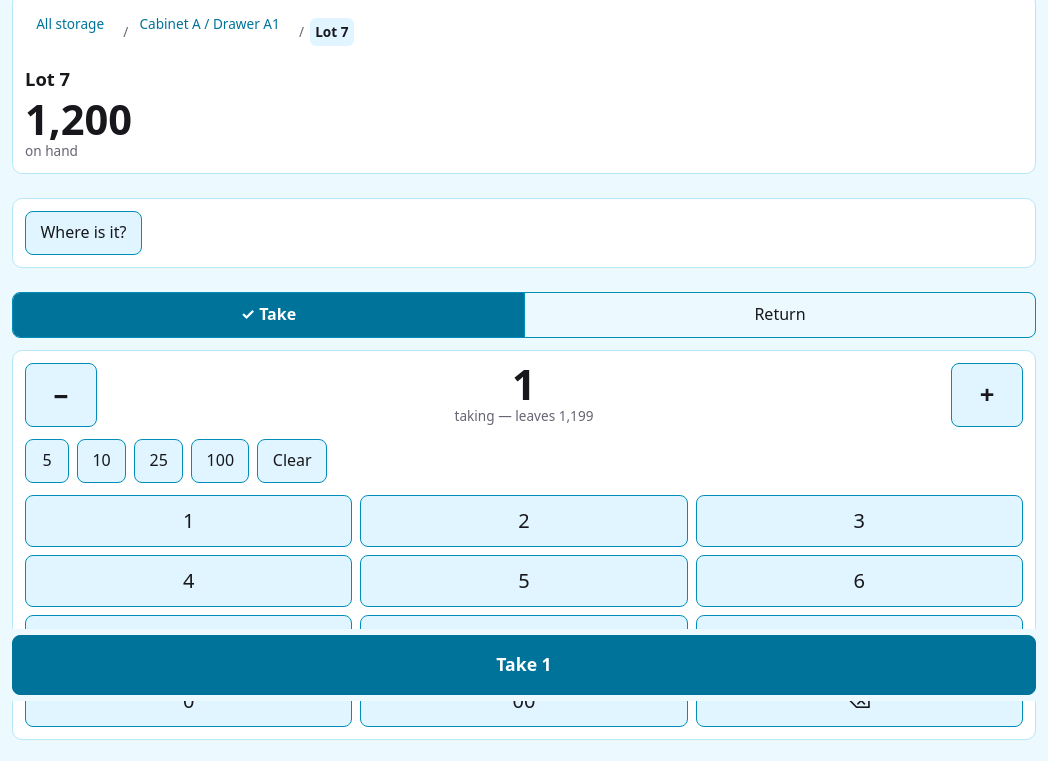
Test: take / return › undoes by naming the committed key, and carries its own key for the undo
Step 1. Click the button "Take 1" → (524, 665), box top-left (12, 635), bottom-right (1036, 695)
(page scrolled)
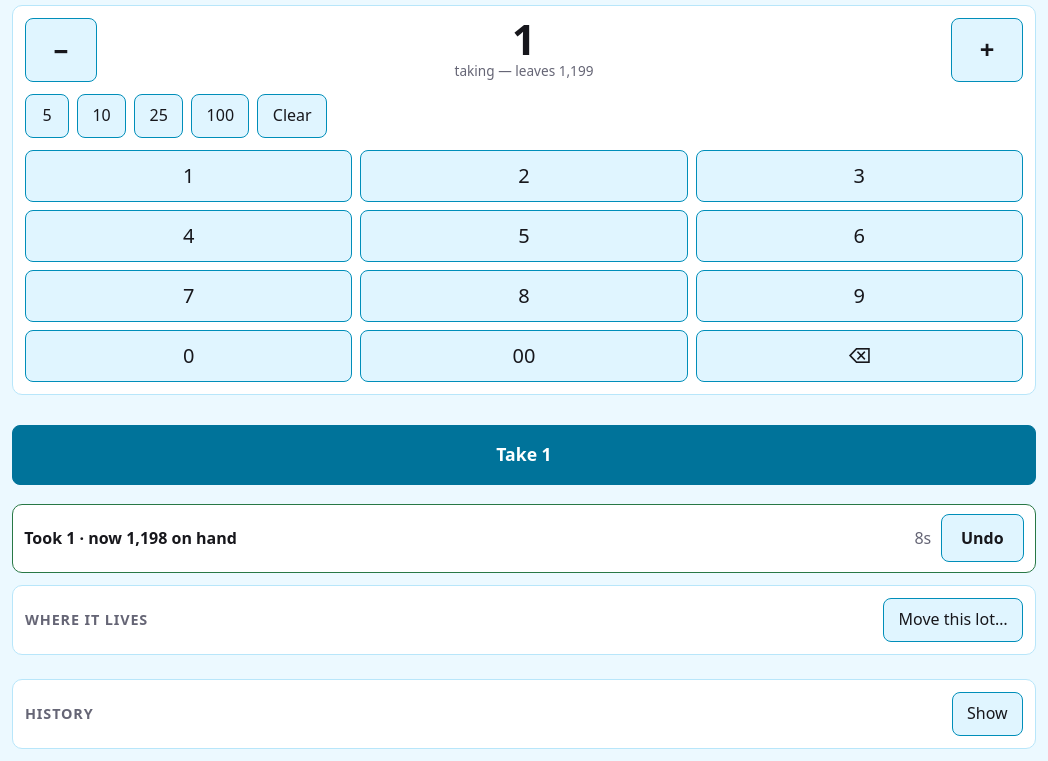
Step 2. Click the button "Undo" → (982, 538), box top-left (941, 514), bottom-right (1024, 562)
(page scrolled)
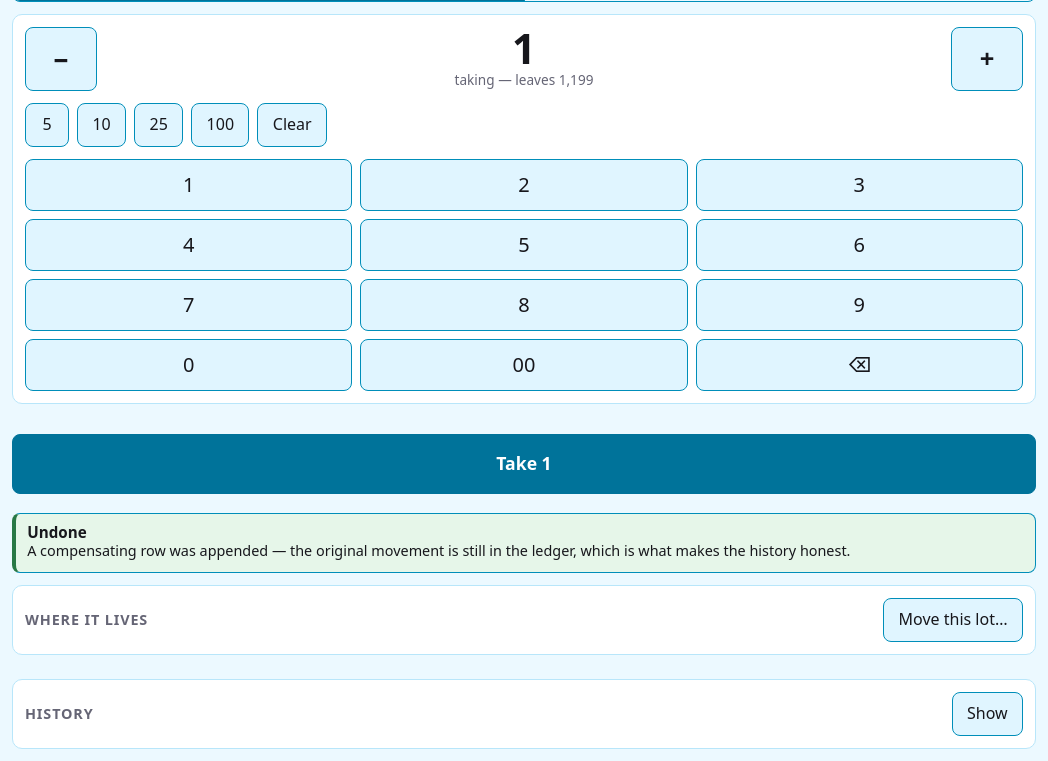
Expected: the heading "Undone" is shown, top-left (27, 522), bottom-right (87, 542)
